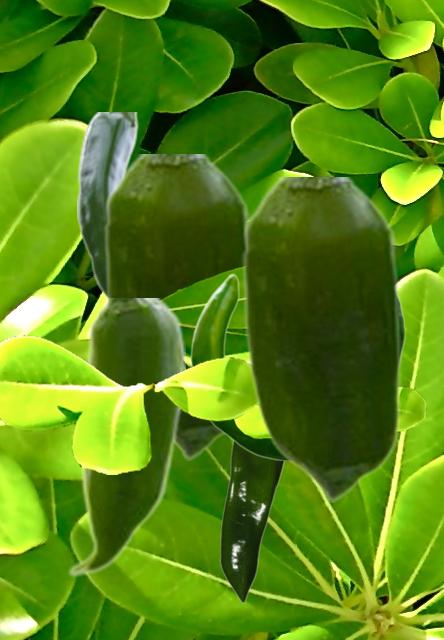green_chili: (241, 177, 400, 501), (103, 154, 253, 459), (190, 271, 405, 459), (66, 298, 184, 577), (77, 112, 141, 297), (219, 441, 285, 602)
